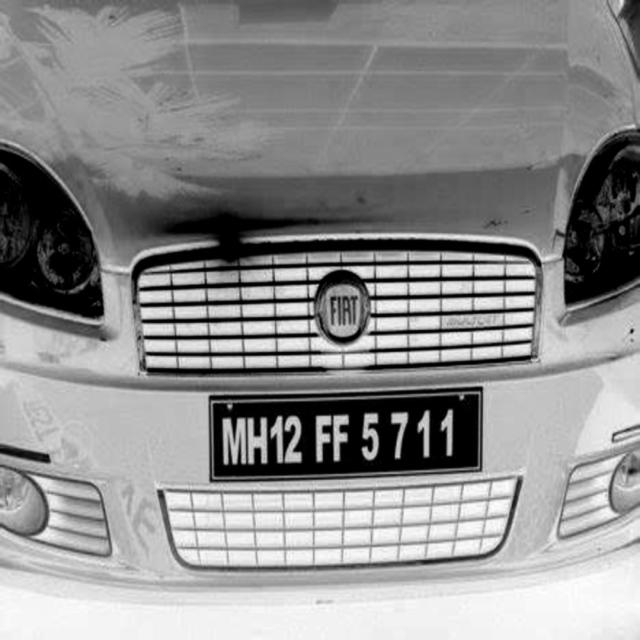Non_registered: (215, 396, 480, 478)
